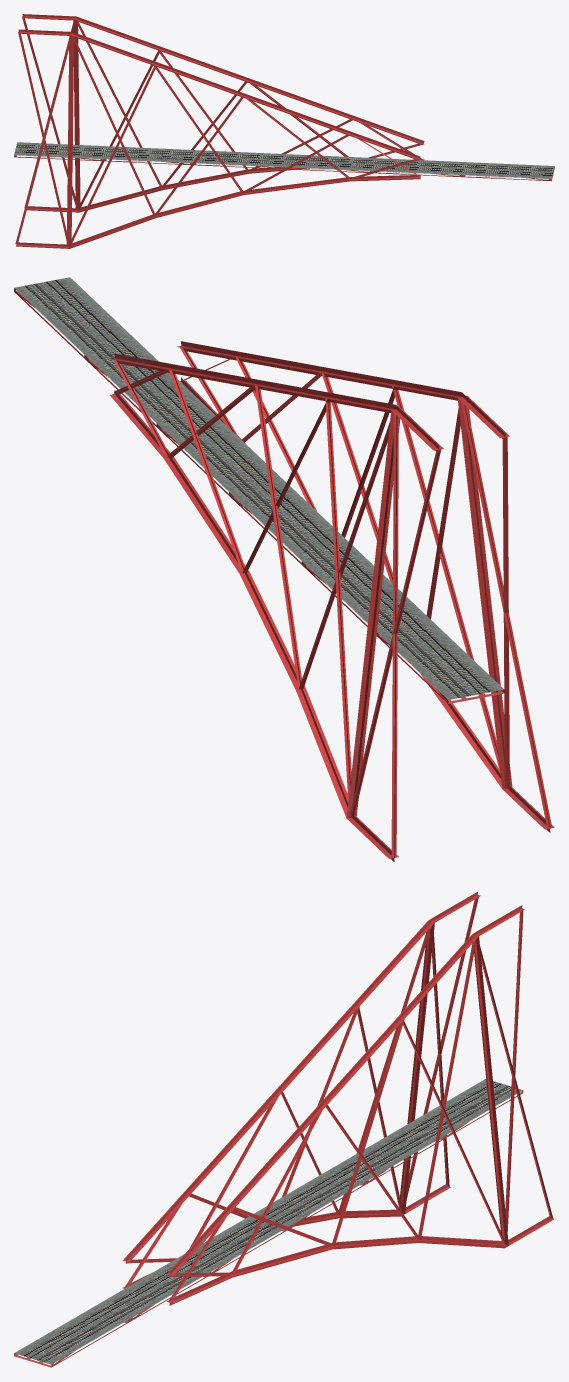
File: lodrailbge01_sfse.obj
The picture shows the model from 3 angles, top to bottom: view 1: azimuth 30°, elevation 25°; view 2: azimuth 150°, elevation 25°; view 3: azimuth 270°, elevation 25°; orthographic projection. The views are drawn at different scales.
Visible parts, largest first — view 1: LODrailbge01_sfse; view 2: LODrailbge01_sfse; view 3: LODrailbge01_sfse.
Boxes of the visible parts, left/top/right/bottom form: LODrailbge01_sfse: left=14, top=14, right=554, bottom=248; LODrailbge01_sfse: left=14, top=277, right=554, bottom=861; LODrailbge01_sfse: left=14, top=891, right=554, bottom=1367.
Size of the model in its own units: 167 by 80.94 by 129.
Materials: 3 (3 with a texture image).
